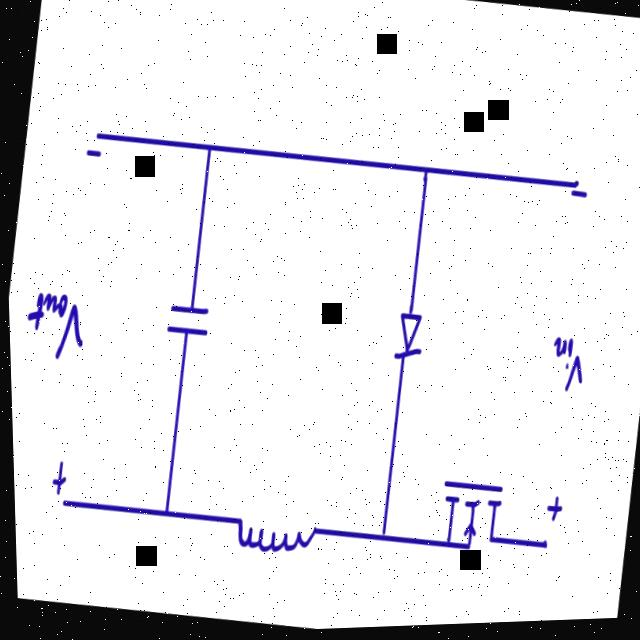capacitor: (158, 283, 223, 373)
diode: (367, 284, 444, 381)
inductor: (216, 495, 329, 583)
mosfet: (423, 462, 518, 579)
